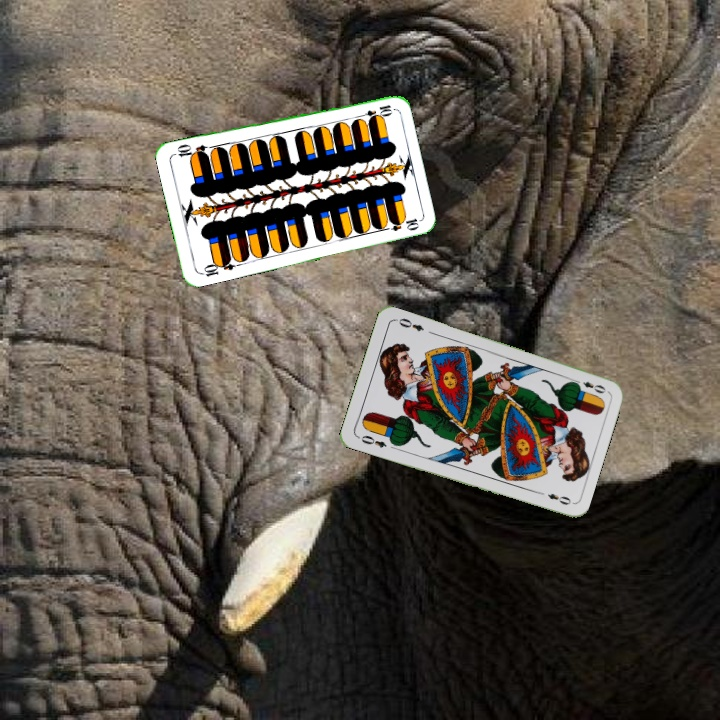E10: (197, 255, 237, 280), (354, 101, 395, 122)
EO: (569, 375, 608, 396), (357, 431, 389, 450)
